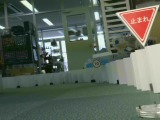stop: (114, 4, 160, 47)
